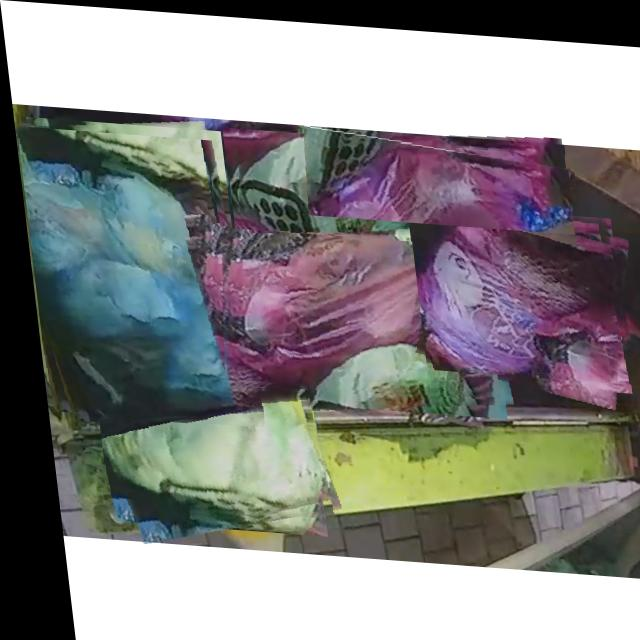general_trashbag: (14, 129, 248, 418), (86, 361, 314, 514), (234, 129, 408, 287)
other_trashbag: (215, 232, 486, 391), (411, 196, 613, 367), (305, 136, 568, 223)
